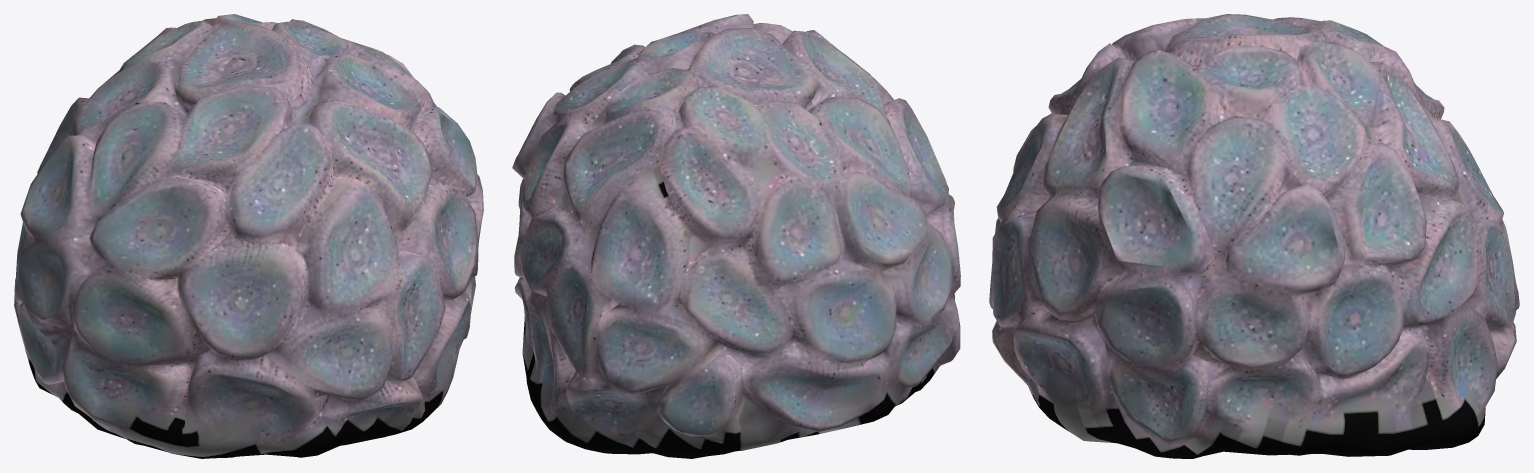
The model's file is WebCoral01-transformed.glb.
3 views of the same model, side by side, from view 1: azimuth 30°, elevation 25°; view 2: azimuth 150°, elevation 25°; view 3: azimuth 270°, elevation 25° (orthographic). The views are drawn at different scales.
Parts seen in each view (by area): view 1: WebCoral01; view 2: WebCoral01; view 3: WebCoral01.
Boxes of the visible parts, box(x1,y1,x2,y2) form: WebCoral01: box(14, 14, 483, 458); WebCoral01: box(512, 14, 960, 458); WebCoral01: box(989, 14, 1519, 458).
Size of the model in its own units: 12.8 by 10.77 by 13.19.
1 material, 1 textured.
